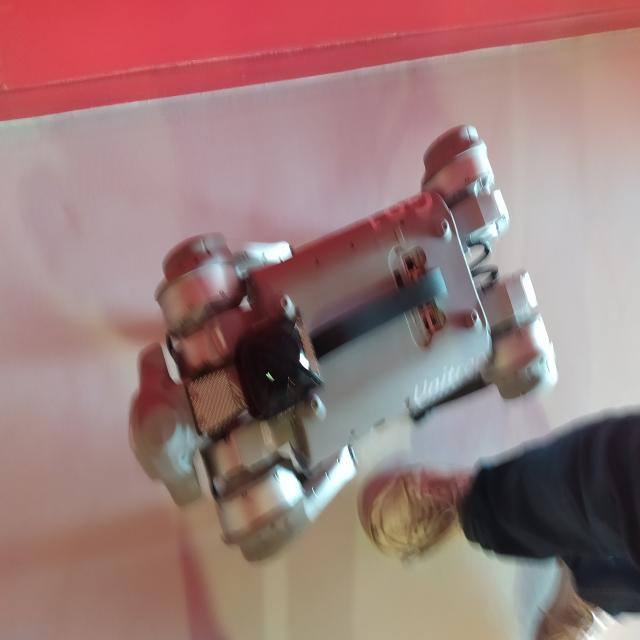unitree-go1-robot: (116, 106, 571, 584)
